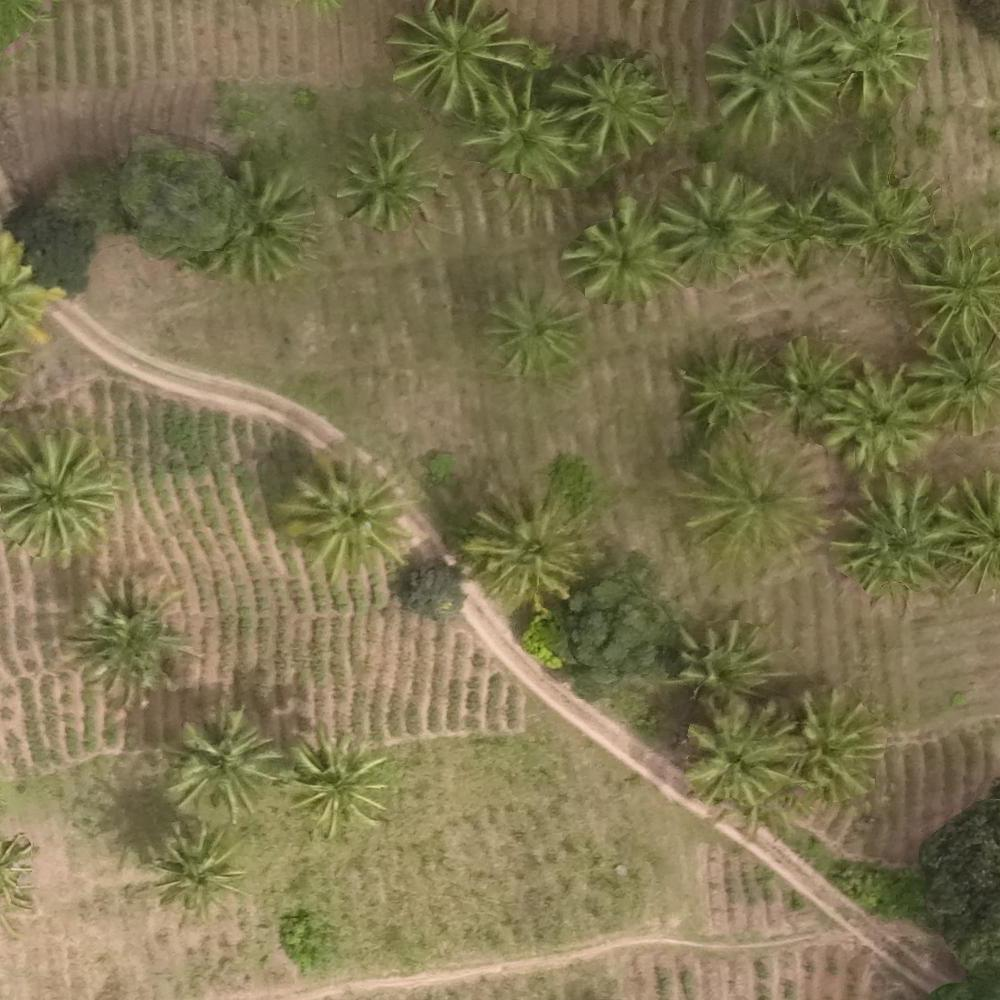Palm: (704, 4, 838, 131), (280, 446, 413, 568), (690, 442, 817, 565), (3, 425, 121, 551), (70, 574, 191, 695), (841, 478, 960, 597), (469, 486, 592, 601), (194, 162, 311, 280), (394, 5, 526, 109), (565, 198, 681, 307), (814, 2, 931, 110), (469, 77, 583, 184), (662, 163, 770, 275), (900, 235, 1000, 355), (785, 684, 888, 799), (688, 702, 796, 806), (762, 327, 866, 435), (832, 154, 937, 260), (279, 726, 383, 832), (825, 367, 935, 465), (557, 50, 660, 154), (174, 709, 276, 813), (337, 126, 437, 232), (681, 335, 780, 436), (144, 822, 245, 919), (677, 612, 782, 701), (903, 332, 1000, 427), (482, 284, 576, 380), (936, 471, 1000, 599), (764, 172, 841, 261)
